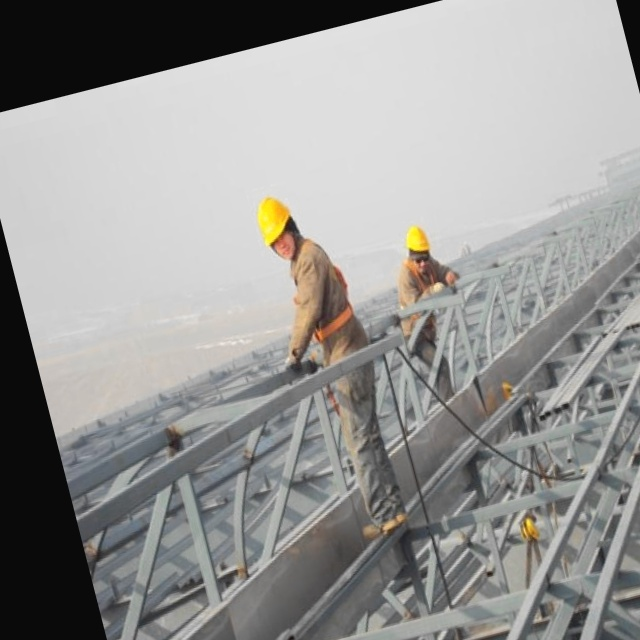Con_Casco: (252, 187, 304, 263), (402, 223, 436, 272)
